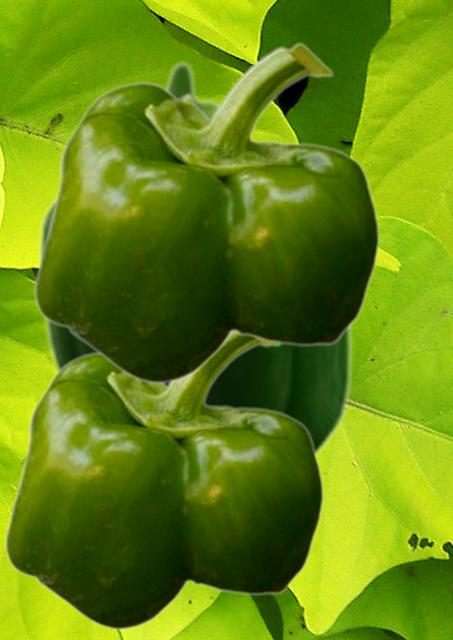bell_pepper: (35, 59, 354, 457), (33, 42, 379, 384), (4, 334, 323, 630)
